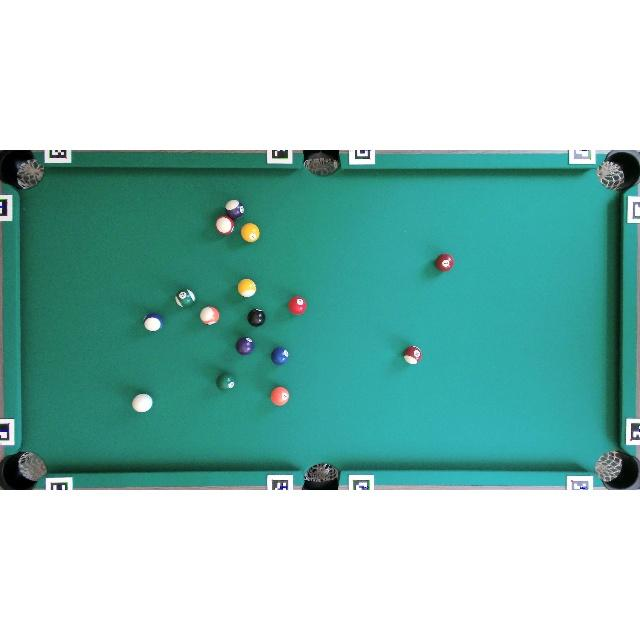cue ball: (132, 393, 152, 413)
other: (240, 222, 260, 243), (403, 345, 423, 365), (225, 200, 245, 220), (270, 386, 290, 406), (143, 313, 164, 332), (200, 306, 220, 325), (217, 372, 236, 392), (175, 289, 195, 308), (247, 308, 266, 327), (216, 215, 234, 235), (435, 254, 454, 272), (238, 279, 256, 298), (271, 347, 289, 365), (288, 296, 306, 314), (236, 337, 254, 355)
